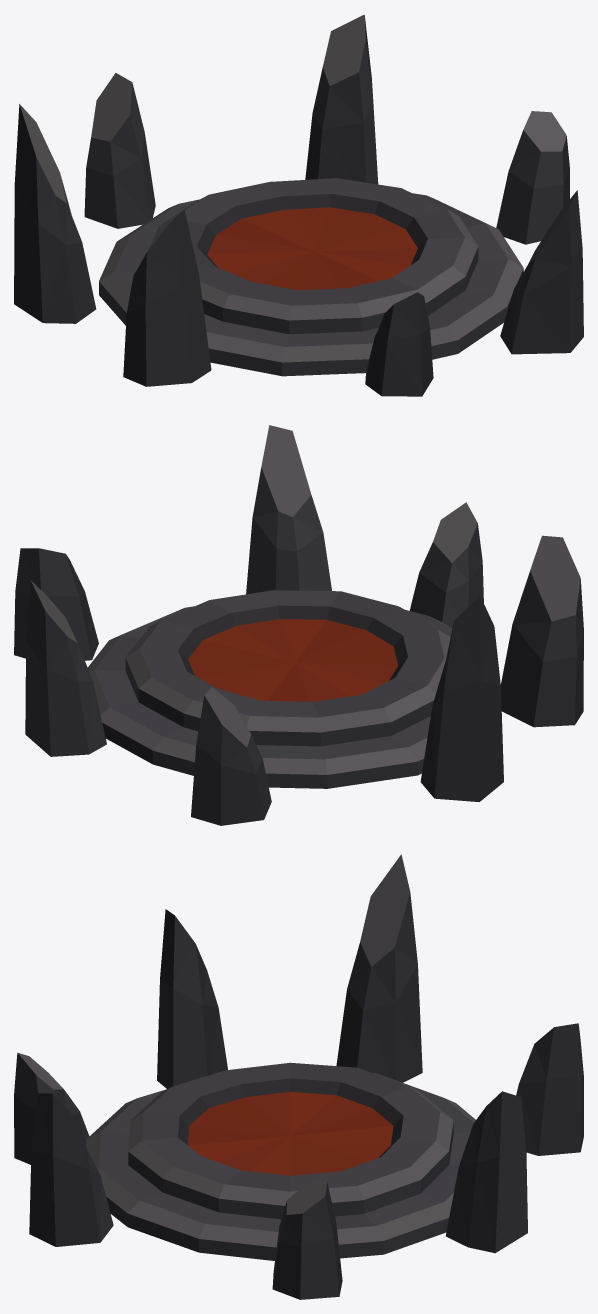
The picture shows the model from 3 angles, top to bottom: view 1: azimuth 30°, elevation 25°; view 2: azimuth 150°, elevation 25°; view 3: azimuth 270°, elevation 25°; orthographic projection.
Visible parts, largest first — view 1: volcano-landmark; view 2: volcano-landmark; view 3: volcano-landmark.
Part boxes in pixels (bbox=[...]): volcano-landmark: bbox=[14, 14, 583, 396]; volcano-landmark: bbox=[14, 425, 583, 825]; volcano-landmark: bbox=[14, 854, 583, 1299].
Size of the model in its own units: 3.44 by 1.32 by 3.38.
